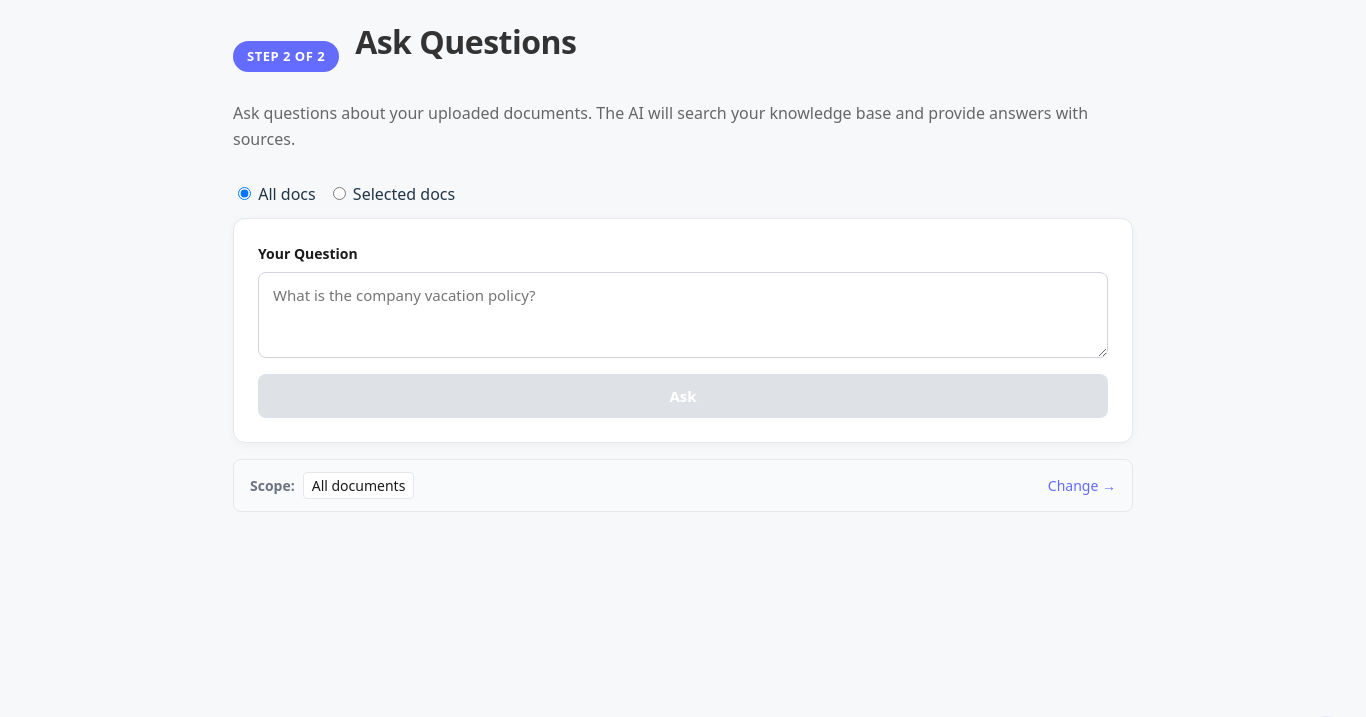
Test: Query SSE behavior › dev warning when LLM_VALIDATED has numeric evidence but no numeric answer
In the text box with placeholder "What is the company vacation policy?": point(683, 315) [258,272,1108,358], type "Check numeric invariant"
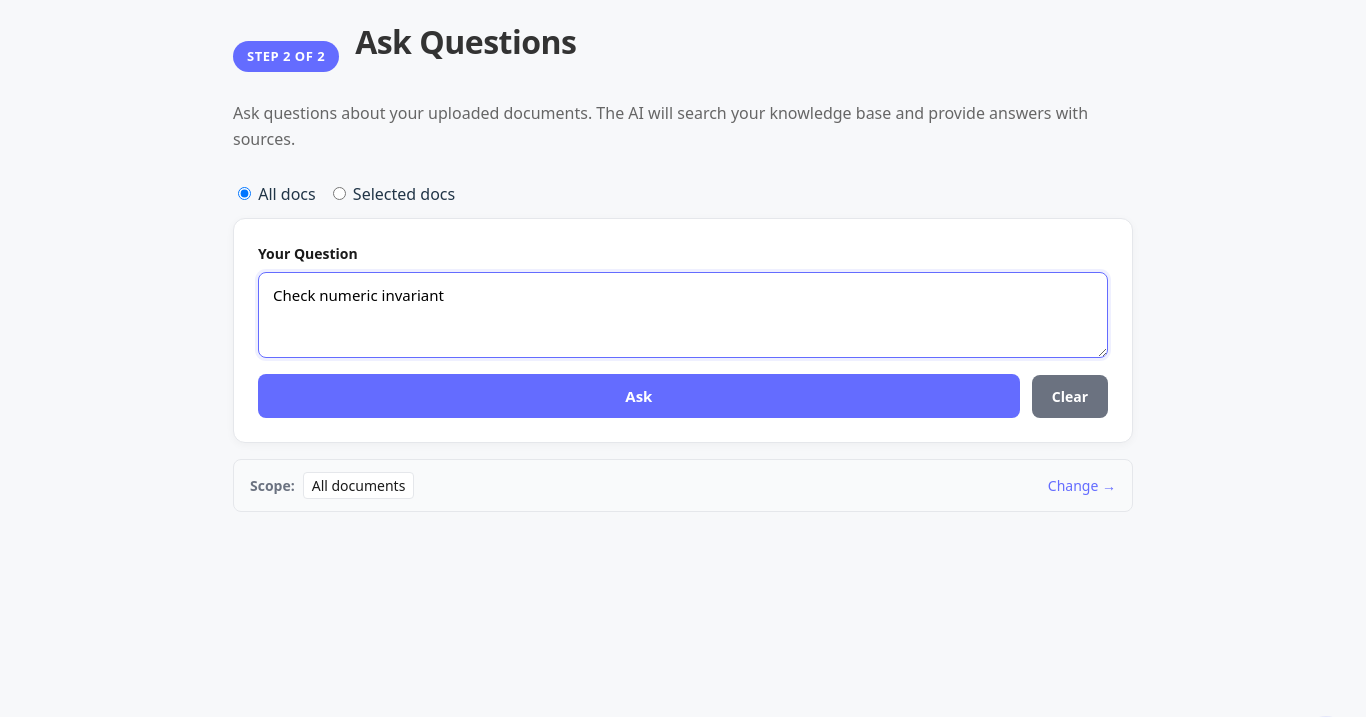
Click the button "Ask": point(639, 396) [258,374,1020,418]
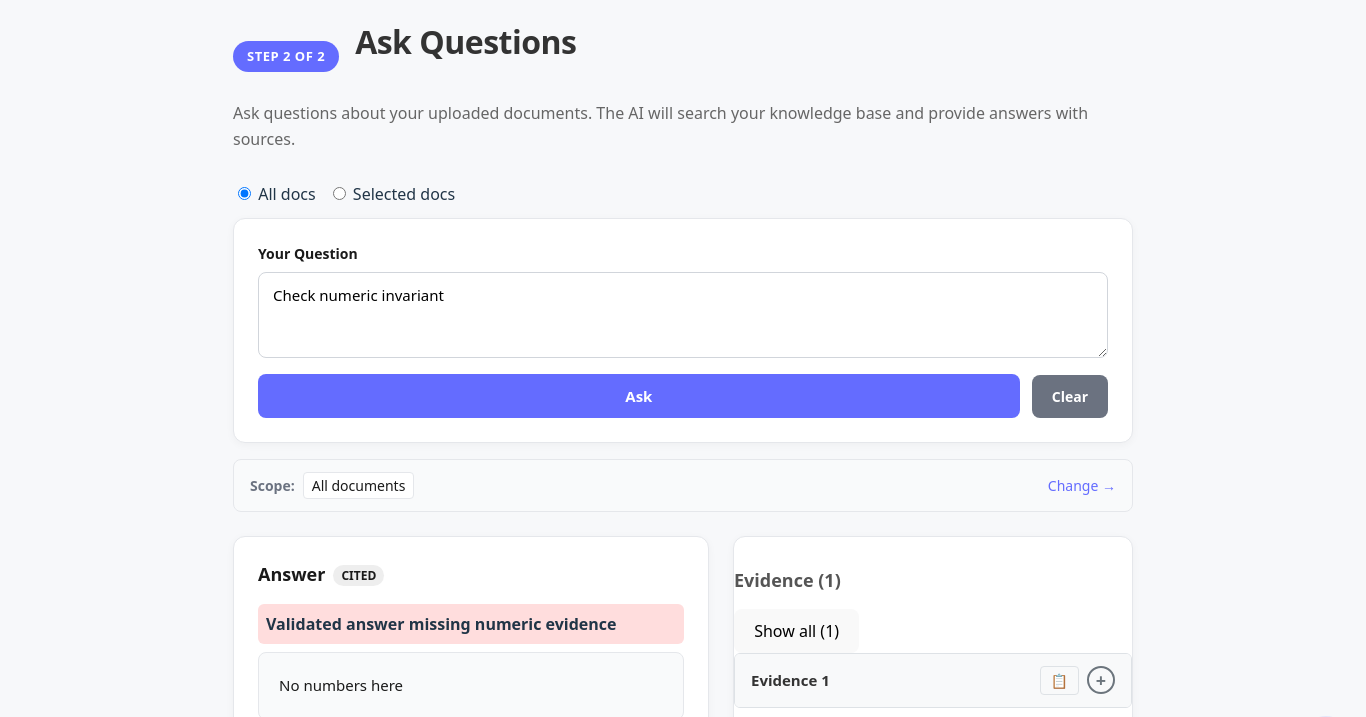
Expected: the text "Validated answer missing numeric evidence" is shown, [266,613,616,635]
